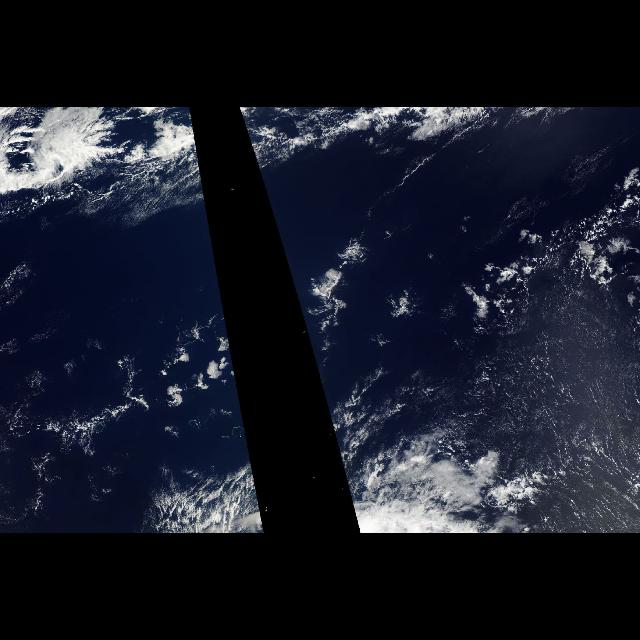Flower: (110, 245, 242, 415), (280, 245, 374, 415)
Sugar: (482, 283, 640, 533)
